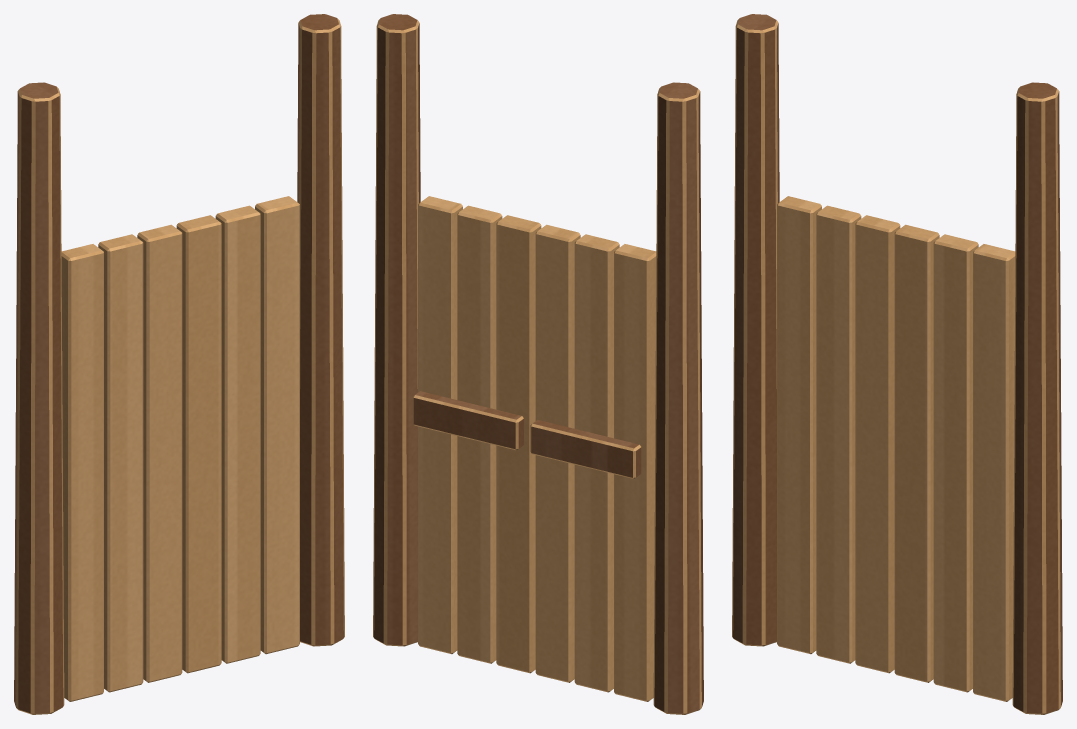
File: sm_palisade_gate.glb
The picture shows the model from 3 angles, left to right: view 1: azimuth 30°, elevation 25°; view 2: azimuth 150°, elevation 25°; view 3: azimuth 330°, elevation 25°; orthographic projection.
Parts seen in each view (by area): view 1: sm_palisade_gate; view 2: sm_palisade_gate; view 3: sm_palisade_gate.
Part boxes in pixels (x1,y1,x2,y2): sm_palisade_gate: (14, 14, 344, 714); sm_palisade_gate: (373, 14, 703, 714); sm_palisade_gate: (732, 14, 1062, 714).
Bounding box in the file's own units: 0.9953 × 1.8 × 0.1477.
Materials: 1 (1 with a texture image).
